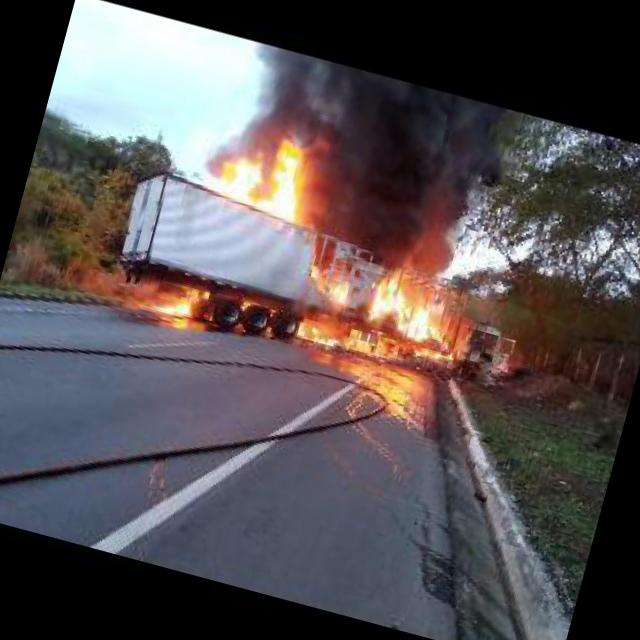fire: (218, 128, 318, 223), (360, 277, 458, 349), (298, 316, 374, 356), (158, 284, 204, 322), (326, 278, 354, 304), (305, 262, 320, 280), (432, 351, 453, 362)
smoke: (284, 70, 523, 290), (176, 28, 304, 167)
